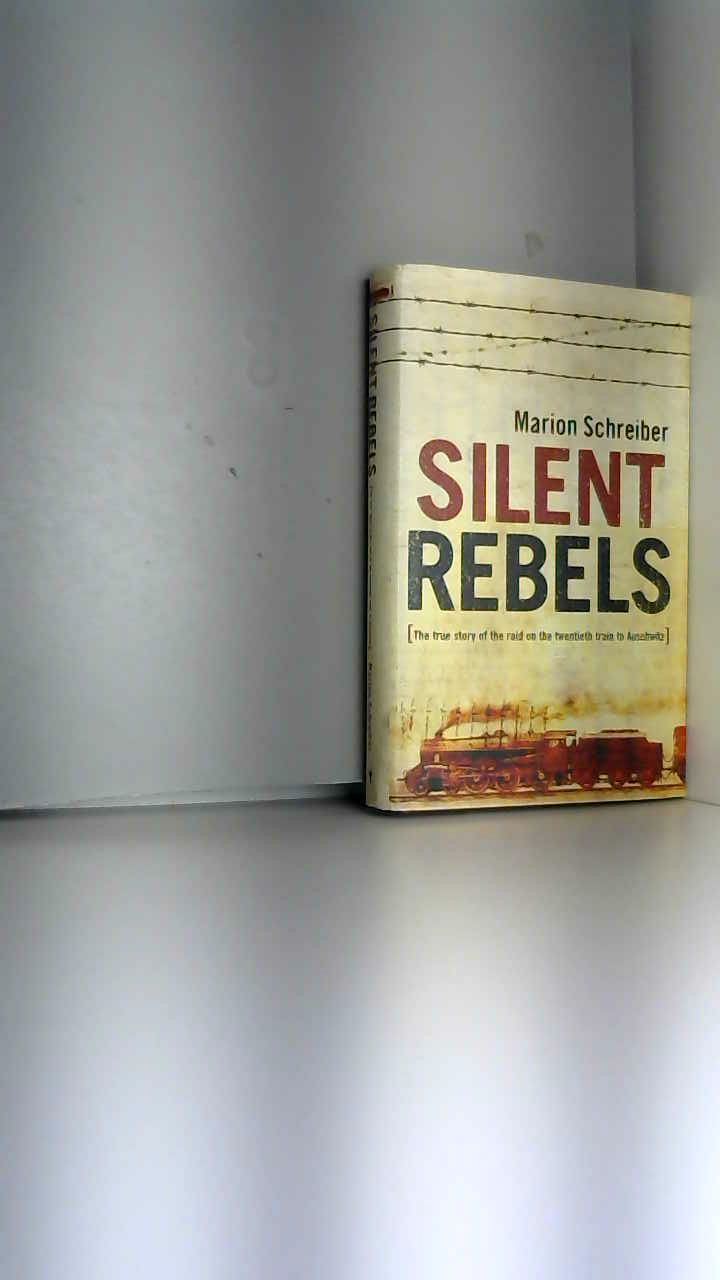book: (330, 230, 718, 836)
